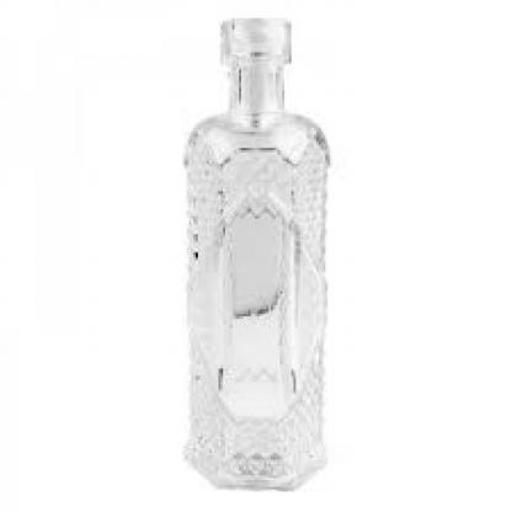glass: (180, 16, 325, 490)
